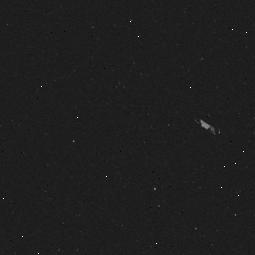lisa_pathfinder: (166, 83, 232, 155)
